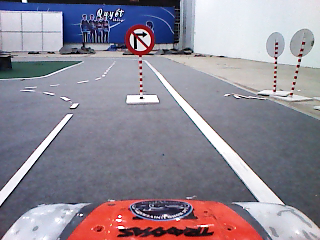ban: (123, 23, 157, 57)
